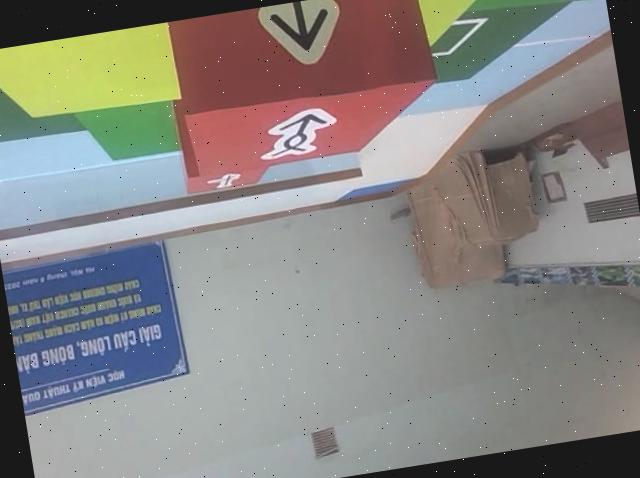R2 Real: (162, 0, 456, 183)
